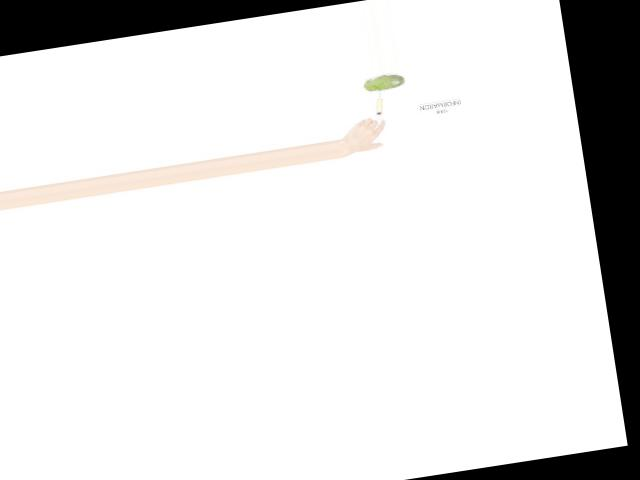cucumber: (361, 73, 405, 93)
